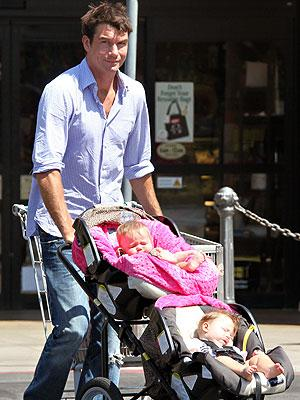person: (21, 3, 170, 400)
